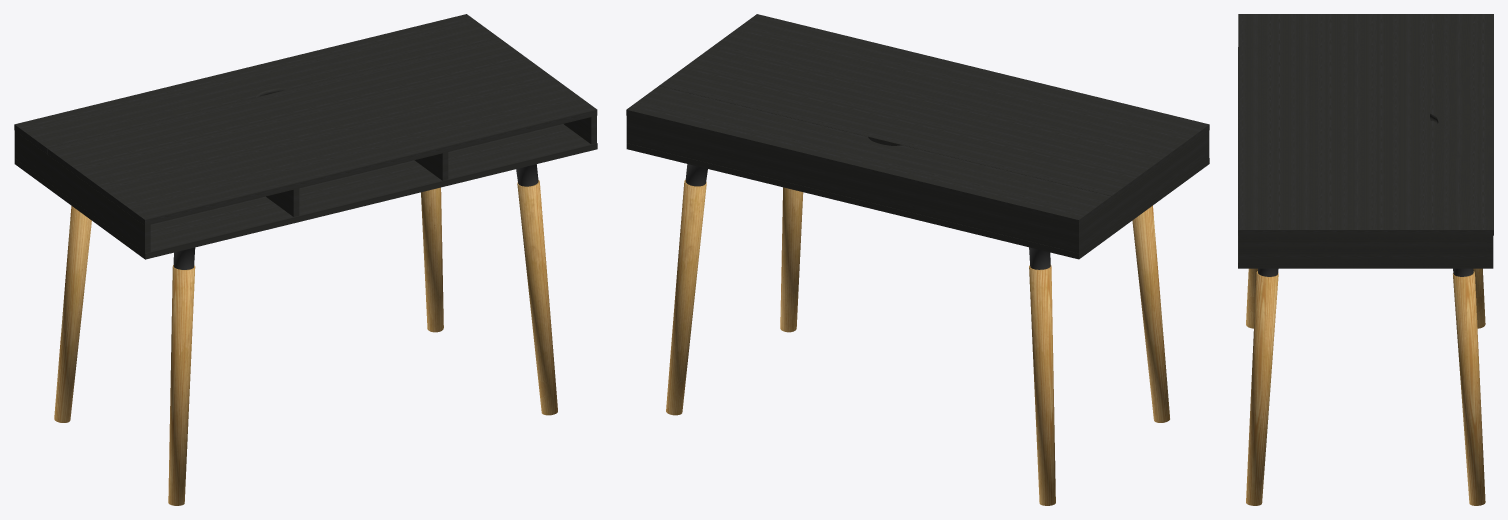
The model's file is minimalistic_modern_wooden_black_desk..glb.
The picture shows the model from 3 angles, left to right: view 1: azimuth 30°, elevation 25°; view 2: azimuth 150°, elevation 25°; view 3: azimuth 270°, elevation 25°; orthographic projection. The views are drawn at different scales.
Parts seen in each view (by area): view 1: Desk_TopPlank_LP, Feet_LP, Desk_TopLid_LP, Desk_LowerPlank_LP, Desk_InteriorDividers_LP, Feet_Base_LP; view 2: Desk_TopPlank_LP, Desk_TopLid_LP, Feet_LP, Desk_BackPlank_LP, Desk_LowerPlank_LP, Desk_InteriorDividers_LP, Feet_Base_LP; view 3: Desk_TopPlank_LP, Desk_TopLid_LP, Feet_LP, Desk_InteriorDividers_LP, Desk_LowerPlank_LP, Feet_Base_LP.
Part boxes in pixels (x1,y1,x2,y2): Desk_TopPlank_LP: (47, 38, 597, 225); Feet_LP: (54, 180, 557, 505); Desk_TopLid_LP: (14, 14, 498, 153); Desk_LowerPlank_LP: (14, 124, 597, 259); Desk_InteriorDividers_LP: (18, 115, 596, 253); Feet_Base_LP: (173, 164, 538, 269); Desk_TopPlank_LP: (659, 14, 1209, 201); Desk_TopLid_LP: (626, 86, 1111, 225); Feet_LP: (666, 180, 1169, 505); Desk_BackPlank_LP: (626, 116, 1082, 253); Desk_LowerPlank_LP: (626, 143, 1209, 259); Desk_InteriorDividers_LP: (1082, 131, 1209, 250); Feet_Base_LP: (685, 164, 1050, 269); Desk_TopPlank_LP: (1238, 14, 1429, 235); Desk_TopLid_LP: (1430, 14, 1493, 235); Feet_LP: (1246, 268, 1485, 505); Desk_InteriorDividers_LP: (1238, 120, 1486, 262); Desk_LowerPlank_LP: (1238, 47, 1493, 268); Feet_Base_LP: (1258, 268, 1473, 276).
Size of the model in its own units: 1.2 by 0.7585 by 0.6011.
1 material, 1 textured.
